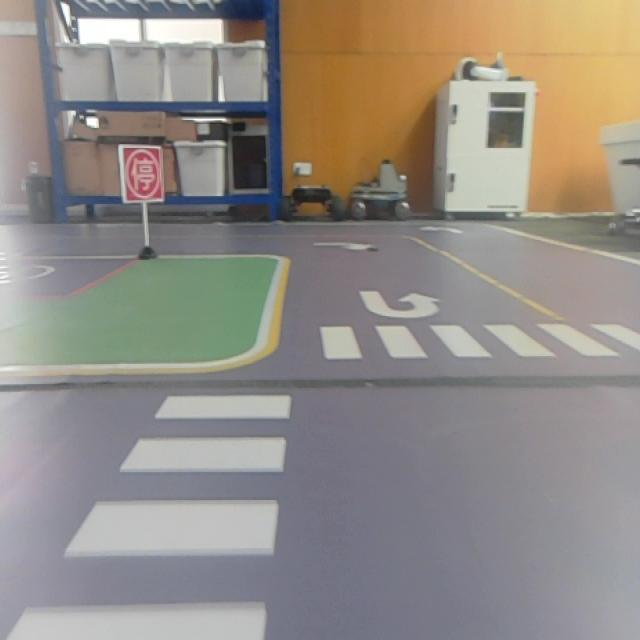left_lane: (263, 259, 289, 352)
right_lane: (414, 234, 560, 319)
